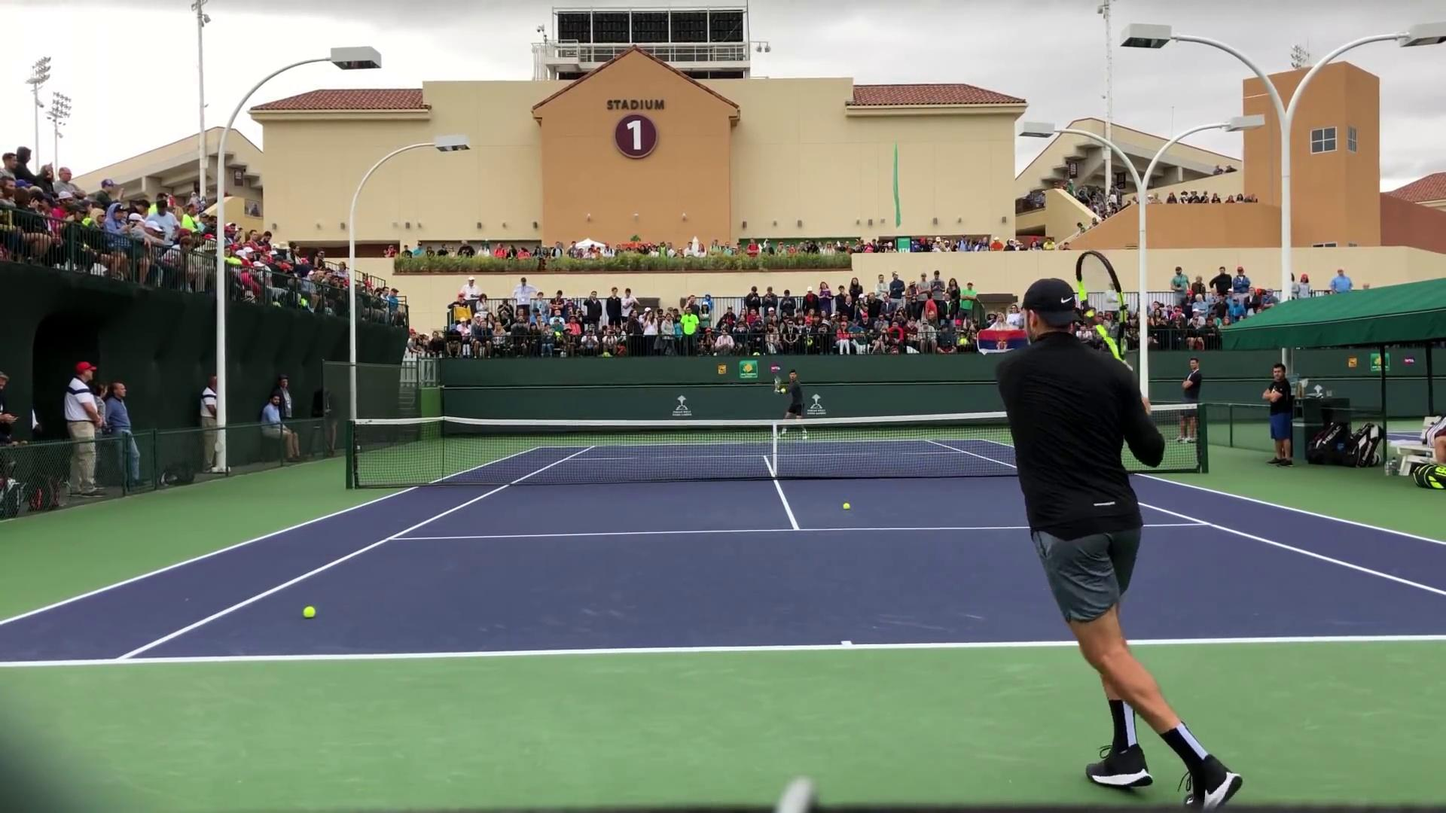ball: (303, 606, 316, 618), (842, 501, 851, 511), (779, 388, 787, 394)
